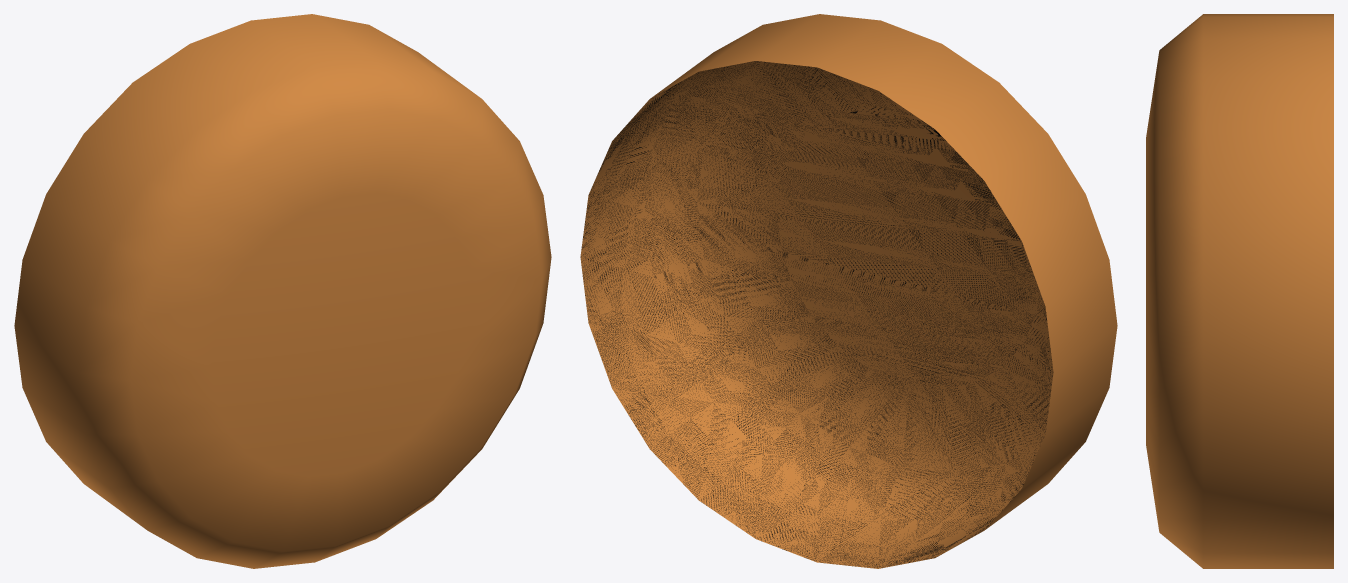
The model's file is original-93.obj.
3 views of the same model, side by side, from view 1: azimuth 30°, elevation 25°; view 2: azimuth 150°, elevation 25°; view 3: azimuth 270°, elevation 25° (orthographic).
Visible parts, largest first — view 1: #ID391; view 2: #ID391; view 3: #ID391.
Part boxes in pixels (x1,y1,x2,y2): #ID391: (14,14,551,568); #ID391: (580,14,1117,568); #ID391: (1146,14,1333,568).
Bounding box in the file's own units: 0.0273 × 0.0273 × 0.00921.
